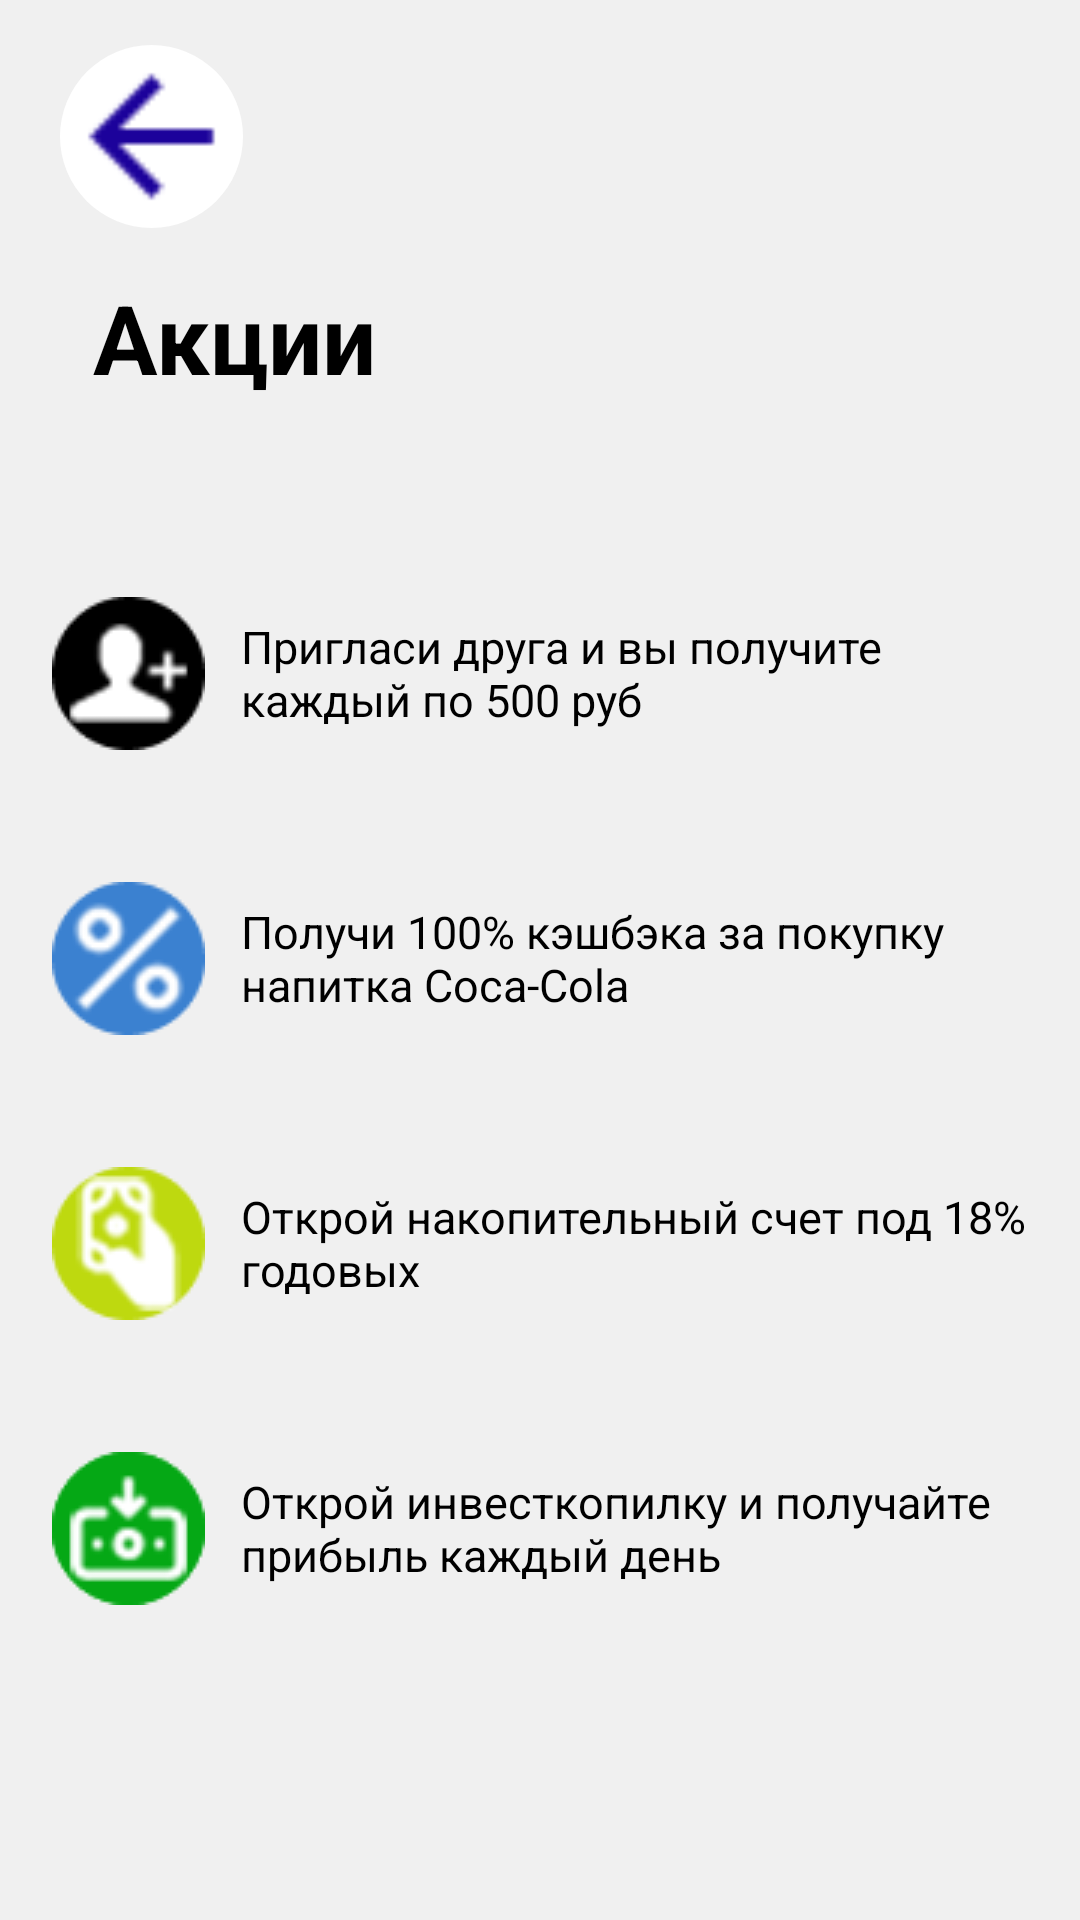

Where icons sit on this 1080 × 1920 app screen, as (x1, y1, x2, y2):
back: (60, 45, 243, 228)
give money: (52, 1167, 205, 1320)
money: (52, 1452, 205, 1605)
people: (52, 597, 205, 750)
proc: (52, 882, 205, 1035)
